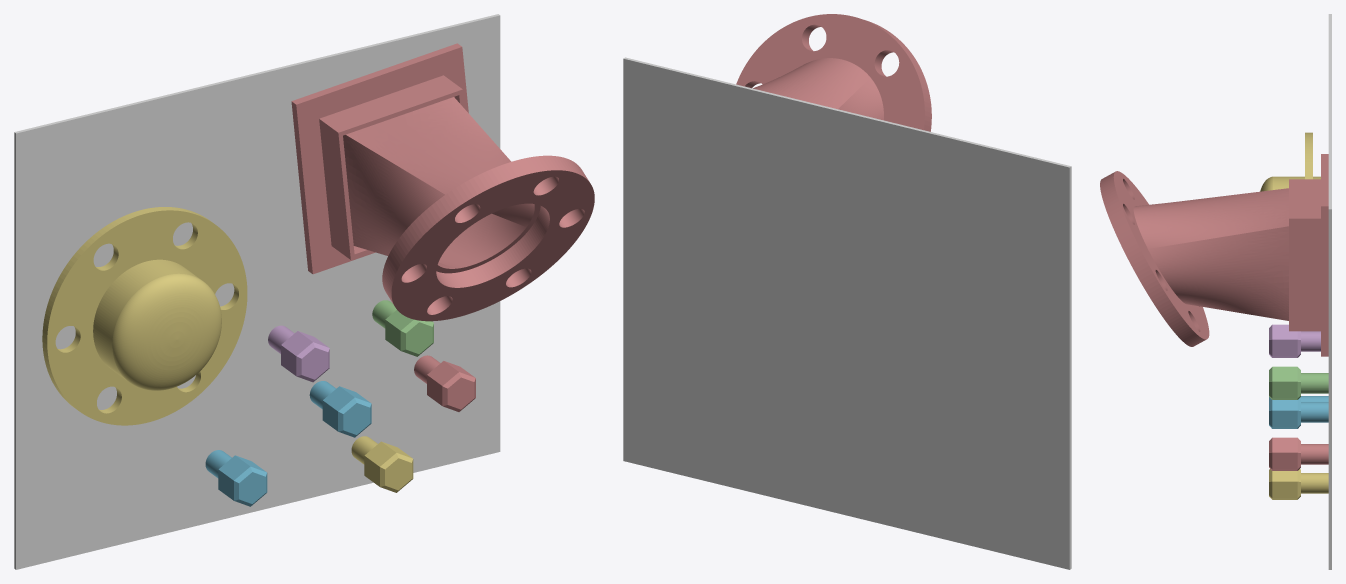
Rendered from pickup_layout.glb.
3 renders of one model, left to right at view 1: azimuth 30°, elevation 25°; view 2: azimuth 150°, elevation 25°; view 3: azimuth 270°, elevation 25°, orthographic. The views are drawn at different scales.
Visible parts, largest first — view 1: world, 0.obj, 1.obj, 6.obj, 2.obj, 7.obj, 3.obj, 5.obj, 4.obj; view 2: world, 0.obj; view 3: 0.obj, world, 4.obj, 5.obj, 7.obj, 6.obj, 3.obj, 1.obj.
Boxes of the visible parts, x1,y1,x2,y2 form: world: (14,14,500,569); 0.obj: (291,43,594,321); 1.obj: (42,207,247,425); 6.obj: (351,436,413,492); 2.obj: (205,450,267,506); 7.obj: (309,381,371,437); 3.obj: (268,325,329,382); 5.obj: (414,355,475,411); 4.obj: (372,300,433,356); world: (623,57,1071,569); 0.obj: (736,14,931,131); 0.obj: (1100,154,1328,356); world: (1328,14,1331,569); 4.obj: (1269,366,1328,399); 5.obj: (1269,437,1328,470); 7.obj: (1269,398,1328,428); 6.obj: (1269,469,1328,499); 3.obj: (1269,324,1320,357); 1.obj: (1260,132,1320,191).
Bounding box in the file's own units: 29.02 × 24.99 × 14.57.
